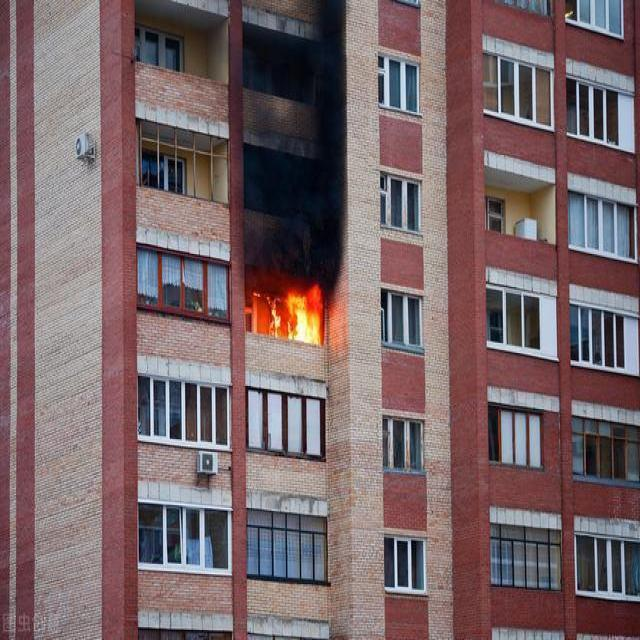Fire: (288, 286, 322, 342)
